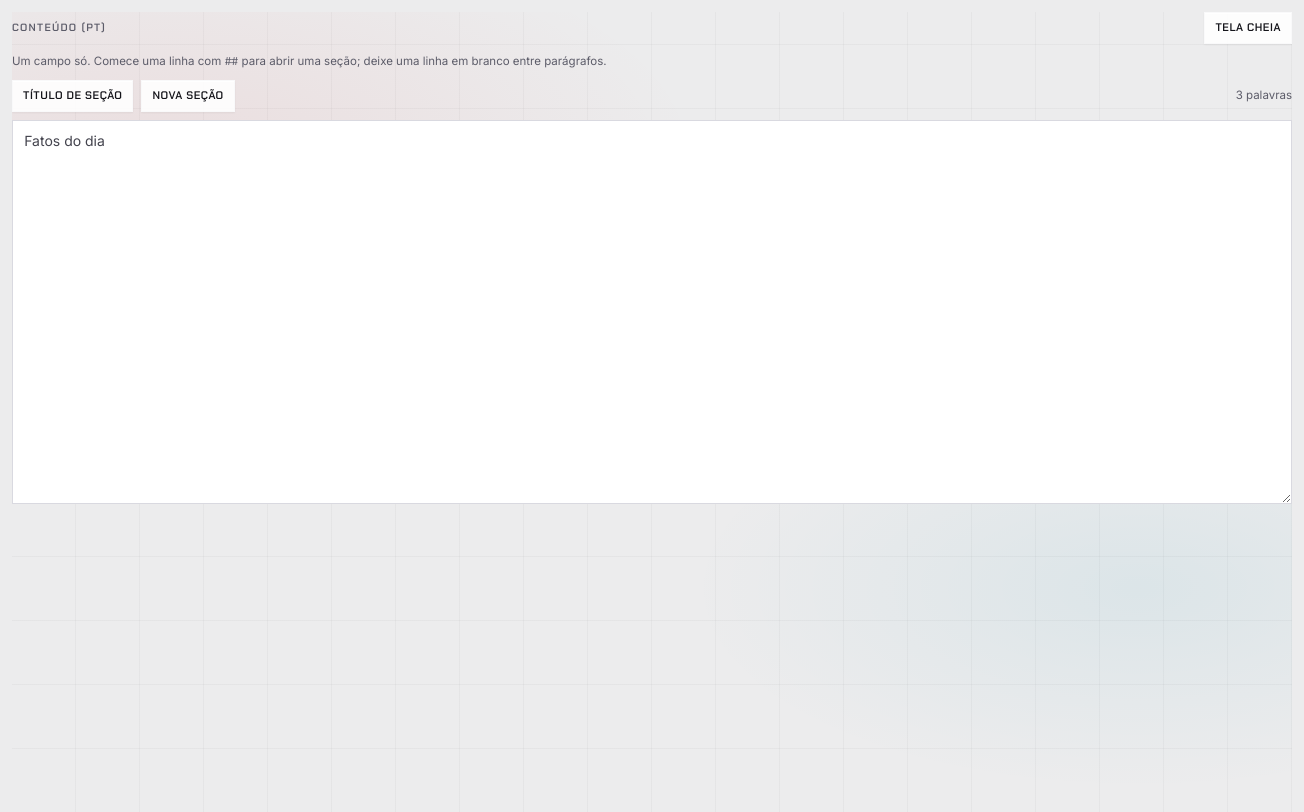
Test: BodyEditor — barra de formatação › "título de seção" transforma a linha do cursor e a conversão volta como seção
Click the button "título de seção": coordinates (73, 96) [12,80,134,112]
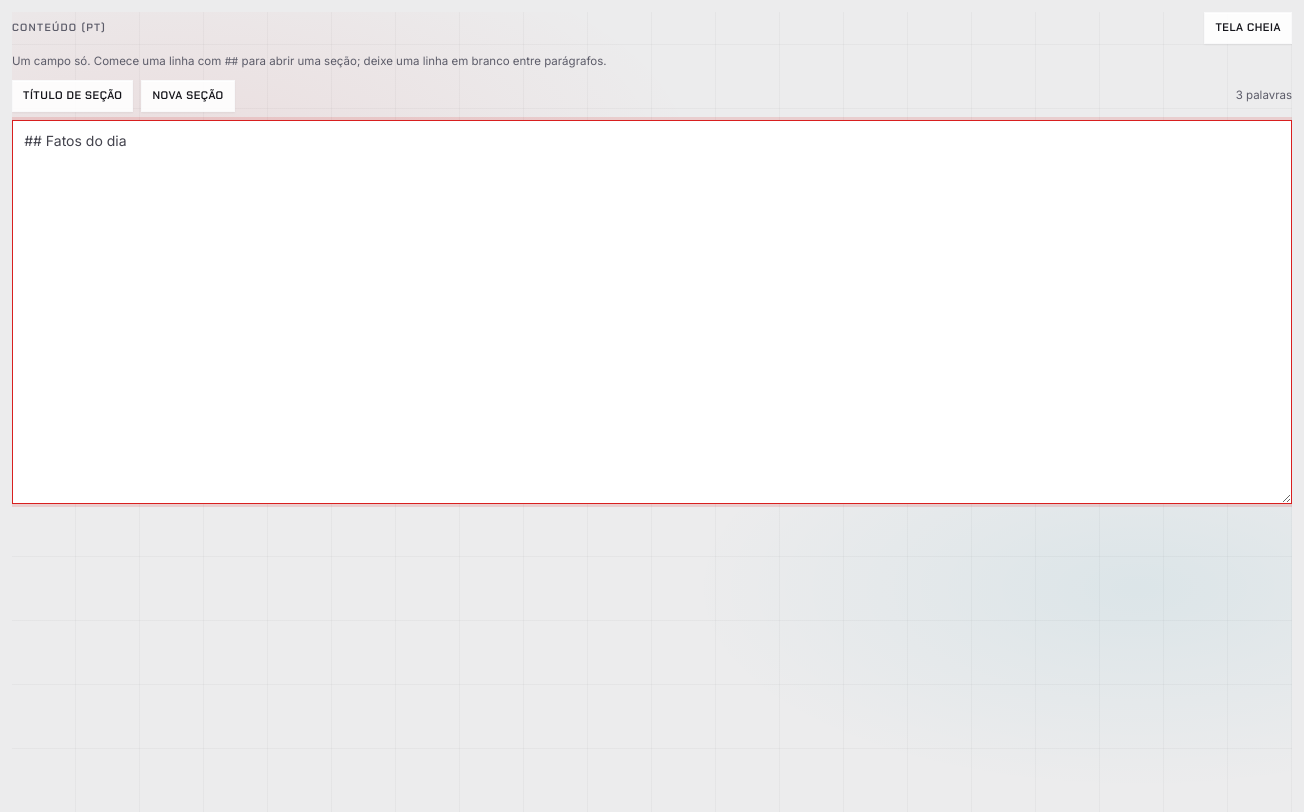
Expected: the text box holds "## Fatos do dia", [12,120,1292,504]
